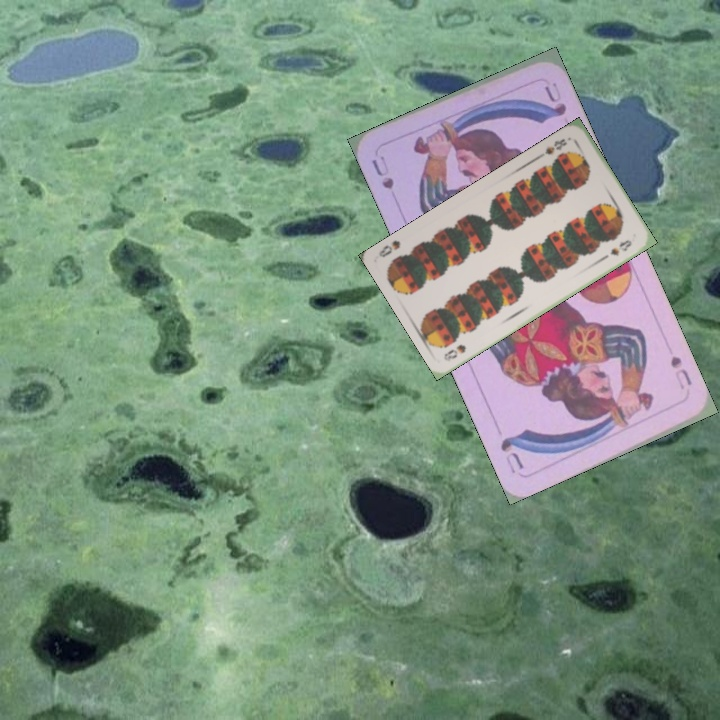S8: (536, 134, 570, 160), (440, 340, 469, 364)
SU: (367, 151, 397, 192), (666, 352, 695, 389)
